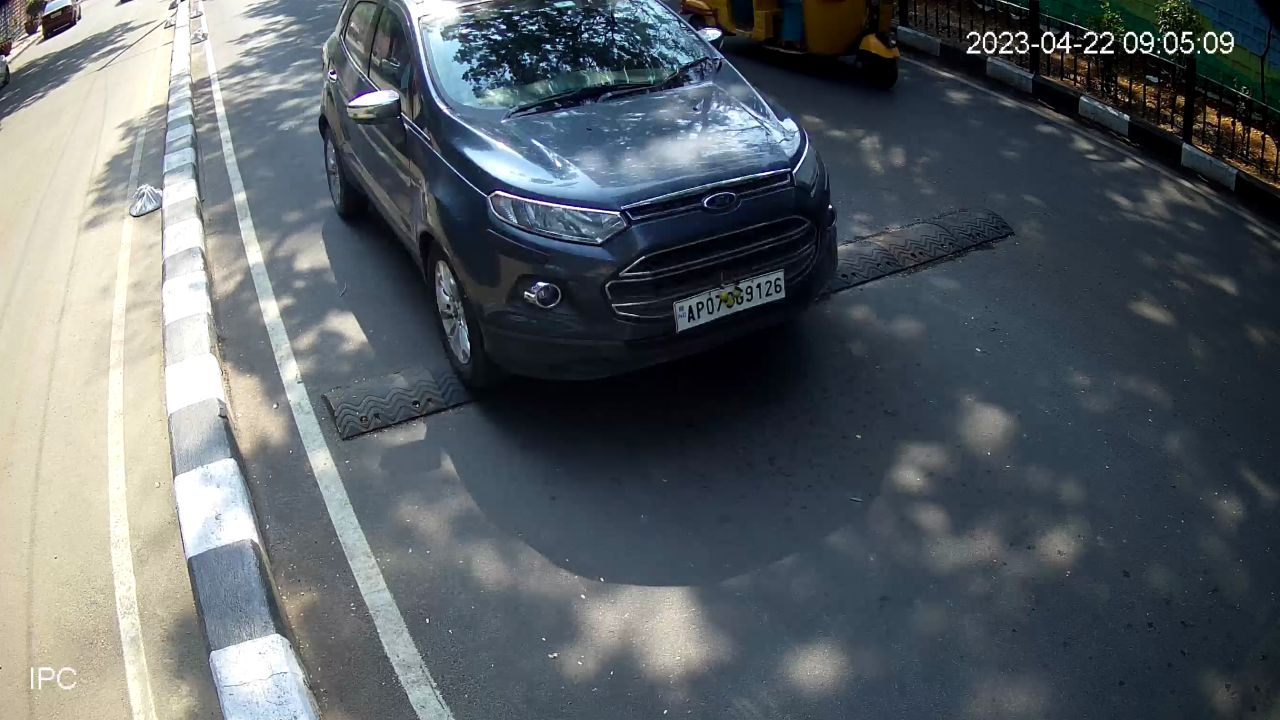license_plate: (666, 262, 794, 342)
